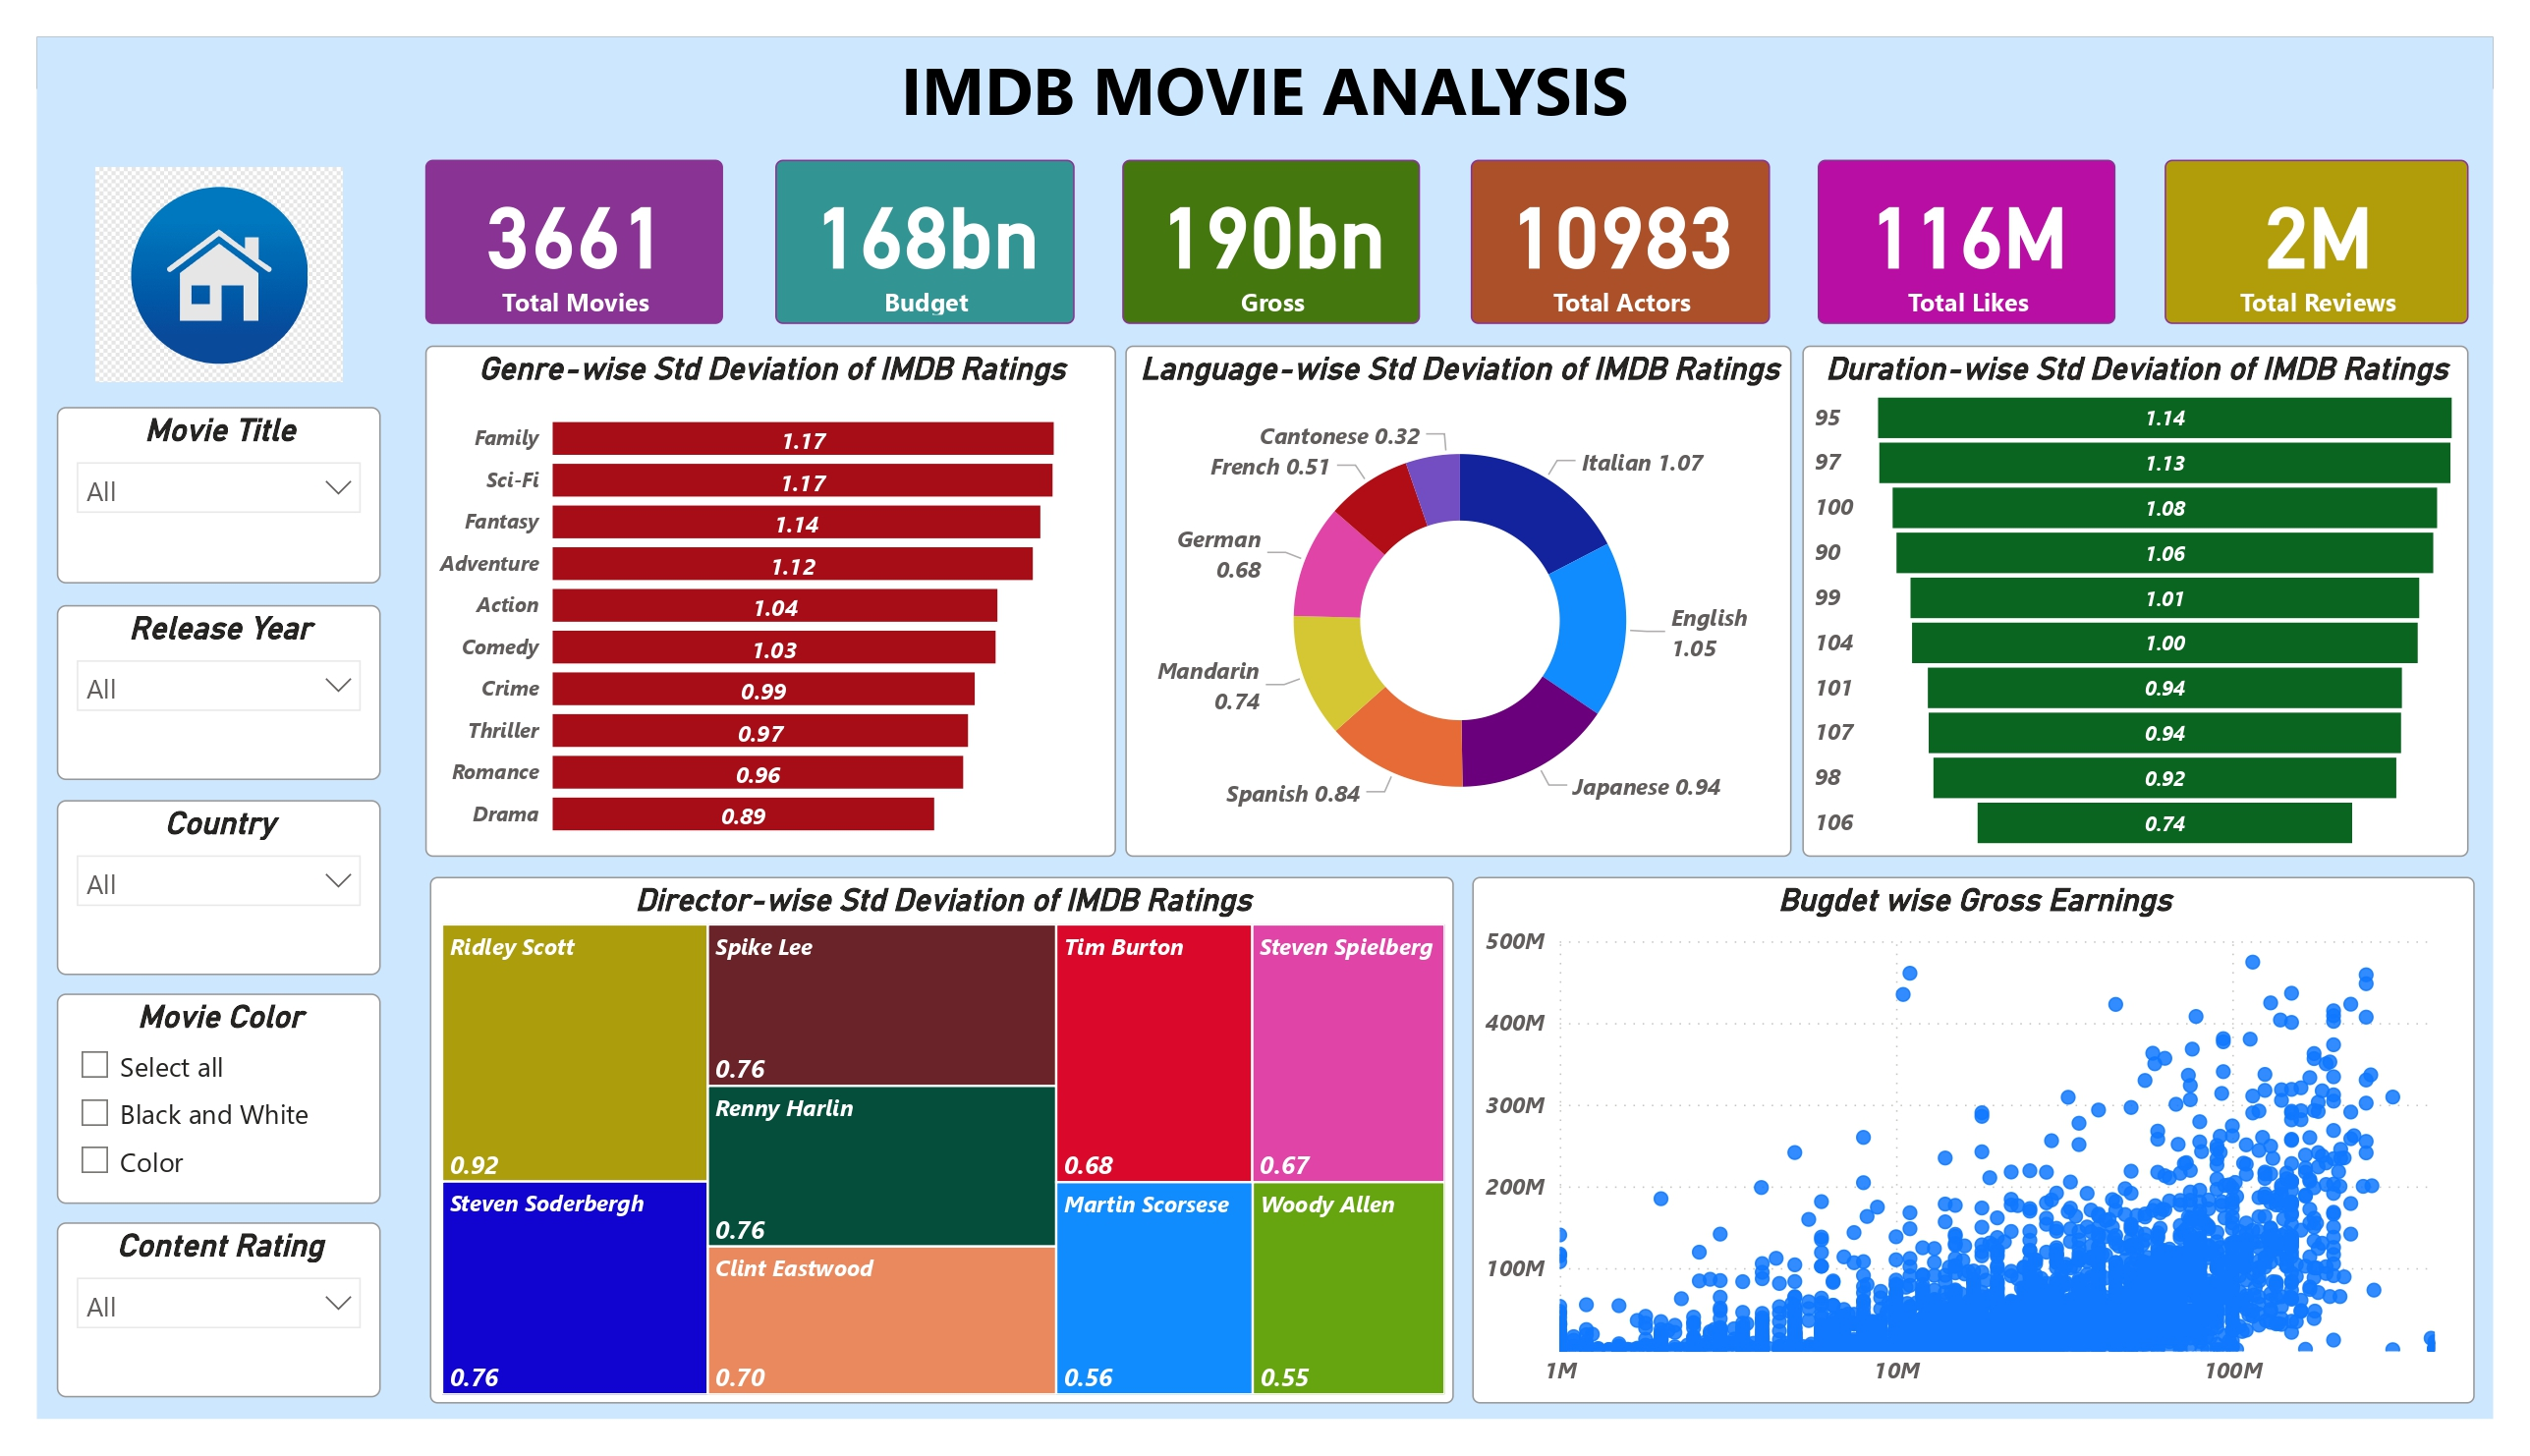

The page's visual inventory and layout, read from the dashboard file:
{"tool":"powerbi","page":{"name":"Standard Deviations","canvas":[1600,900],"ordinal":3},"visuals":[{"type":"clusteredBarChart","title":"Genre-wise Std Deviation of IMDB Ratings","fields":{"Category":["genres.genres"],"Y":["StandardDeviation(genres.imdb_score)"]},"box":[252.9,201.4,450,332.9],"z":0},{"type":"funnel","title":"Duration-wise Std Deviation of IMDB Ratings","fields":{"Category":["Movies.duration"],"Y":["StandardDeviation(Movies.imdb_score)"]},"box":[1149.9,200.8,434.3,332.9],"z":1000},{"type":"donutChart","title":"Language-wise Std Deviation of IMDB Ratings","fields":{"Category":["Movies.language"],"Y":["StandardDeviation(Movies.imdb_score)"]},"box":[708.6,201.4,434.3,332.9],"z":2000},{"type":"treemap","title":"Director-wise Std Deviation of IMDB Ratings","fields":{"Group":["Cast.director_name"],"Values":["StandardDeviation(Cast.imdb_score)"]},"box":[256.1,547.1,667.1,342.9],"z":3000},{"type":"scatterChart","title":"Bugdet wise Gross Earnings","fields":{"X":["Sum(Movies.budget)"],"Y":["Sum(Movies.gross)"]},"box":[934.7,547.1,652.9,342.9],"z":4000},{"type":"card","fields":{"Values":["Min(Movies.movie_title)"]},"box":[252.9,80,194.3,107.1],"z":5000},{"type":"card","fields":{"Values":["Sum(Movies.budget)"]},"box":[481.4,80,194.3,107.1],"z":6000},{"type":"card","fields":{"Values":["Sum(Movies.gross)"]},"box":[707.1,80,194.3,107.1],"z":7000},{"type":"card","fields":{"Values":["Cast.Total_actors"]},"box":[934.3,80,194.3,107.1],"z":8000},{"type":"card","fields":{"Values":["Likes.total_likes"]},"box":[1160,80,194.3,107.1],"z":9000},{"type":"card","fields":{"Values":["Reviews.total_reviews"]},"box":[1385.7,80,198.6,107.1],"z":10000},{"type":"slicer","title":"Release Year","fields":{"Values":["IMDB_Movies.title_year"]},"box":[12.9,370,211.4,114.3],"z":11000},{"type":"slicer","title":"Movie Color","fields":{"Values":["Movies.color"]},"box":[12.9,622.9,211.4,137.1],"z":12000},{"type":"slicer","title":"Content Rating","fields":{"Values":["Movies.content_rating"]},"box":[12.9,771.8,211.4,114.3],"z":13000},{"type":"slicer","title":"Country","fields":{"Values":["Movies.country"]},"box":[12.9,497.1,211.4,114.3],"z":14000},{"type":"slicer","title":"Movie Title","fields":{"Values":["Cast.movie_title"]},"box":[12.9,241.4,211.4,114.3],"z":15000},{"type":"image","box":[12.9,80,211.4,150],"z":16000},{"type":"textbox","box":[0,0,1600,70],"z":17000}]}

Visuals, with their boxes on the page's 1600x900 design canvas (x1, y1, x2, y2). These are canvas units, not pixel positions in the 2530x1456 screenshot, which may show the page scaled, cropped or inside an application window:
"Genre-wise Std Deviation of IMDB Ratings" clusteredBarChart: Rect(253, 201, 703, 534)
"Duration-wise Std Deviation of IMDB Ratings" funnel: Rect(1150, 201, 1584, 534)
"Language-wise Std Deviation of IMDB Ratings" donutChart: Rect(709, 201, 1143, 534)
"Director-wise Std Deviation of IMDB Ratings" treemap: Rect(256, 547, 923, 890)
"Bugdet wise Gross Earnings" scatterChart: Rect(935, 547, 1588, 890)
card - Min(Movies.movie_title): Rect(253, 80, 447, 187)
card - Sum(Movies.budget): Rect(481, 80, 676, 187)
card - Sum(Movies.gross): Rect(707, 80, 901, 187)
card - Cast.Total_actors: Rect(934, 80, 1129, 187)
card - Likes.total_likes: Rect(1160, 80, 1354, 187)
card - Reviews.total_reviews: Rect(1386, 80, 1584, 187)
"Release Year" slicer: Rect(13, 370, 224, 484)
"Movie Color" slicer: Rect(13, 623, 224, 760)
"Content Rating" slicer: Rect(13, 772, 224, 886)
"Country" slicer: Rect(13, 497, 224, 611)
"Movie Title" slicer: Rect(13, 241, 224, 356)
image: Rect(13, 80, 224, 230)
textbox: Rect(0, 0, 1600, 70)
